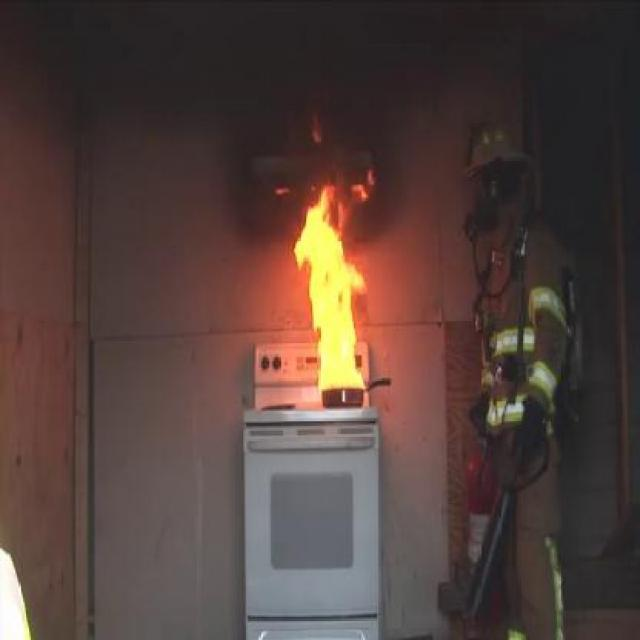fire: (296, 191, 366, 384)
